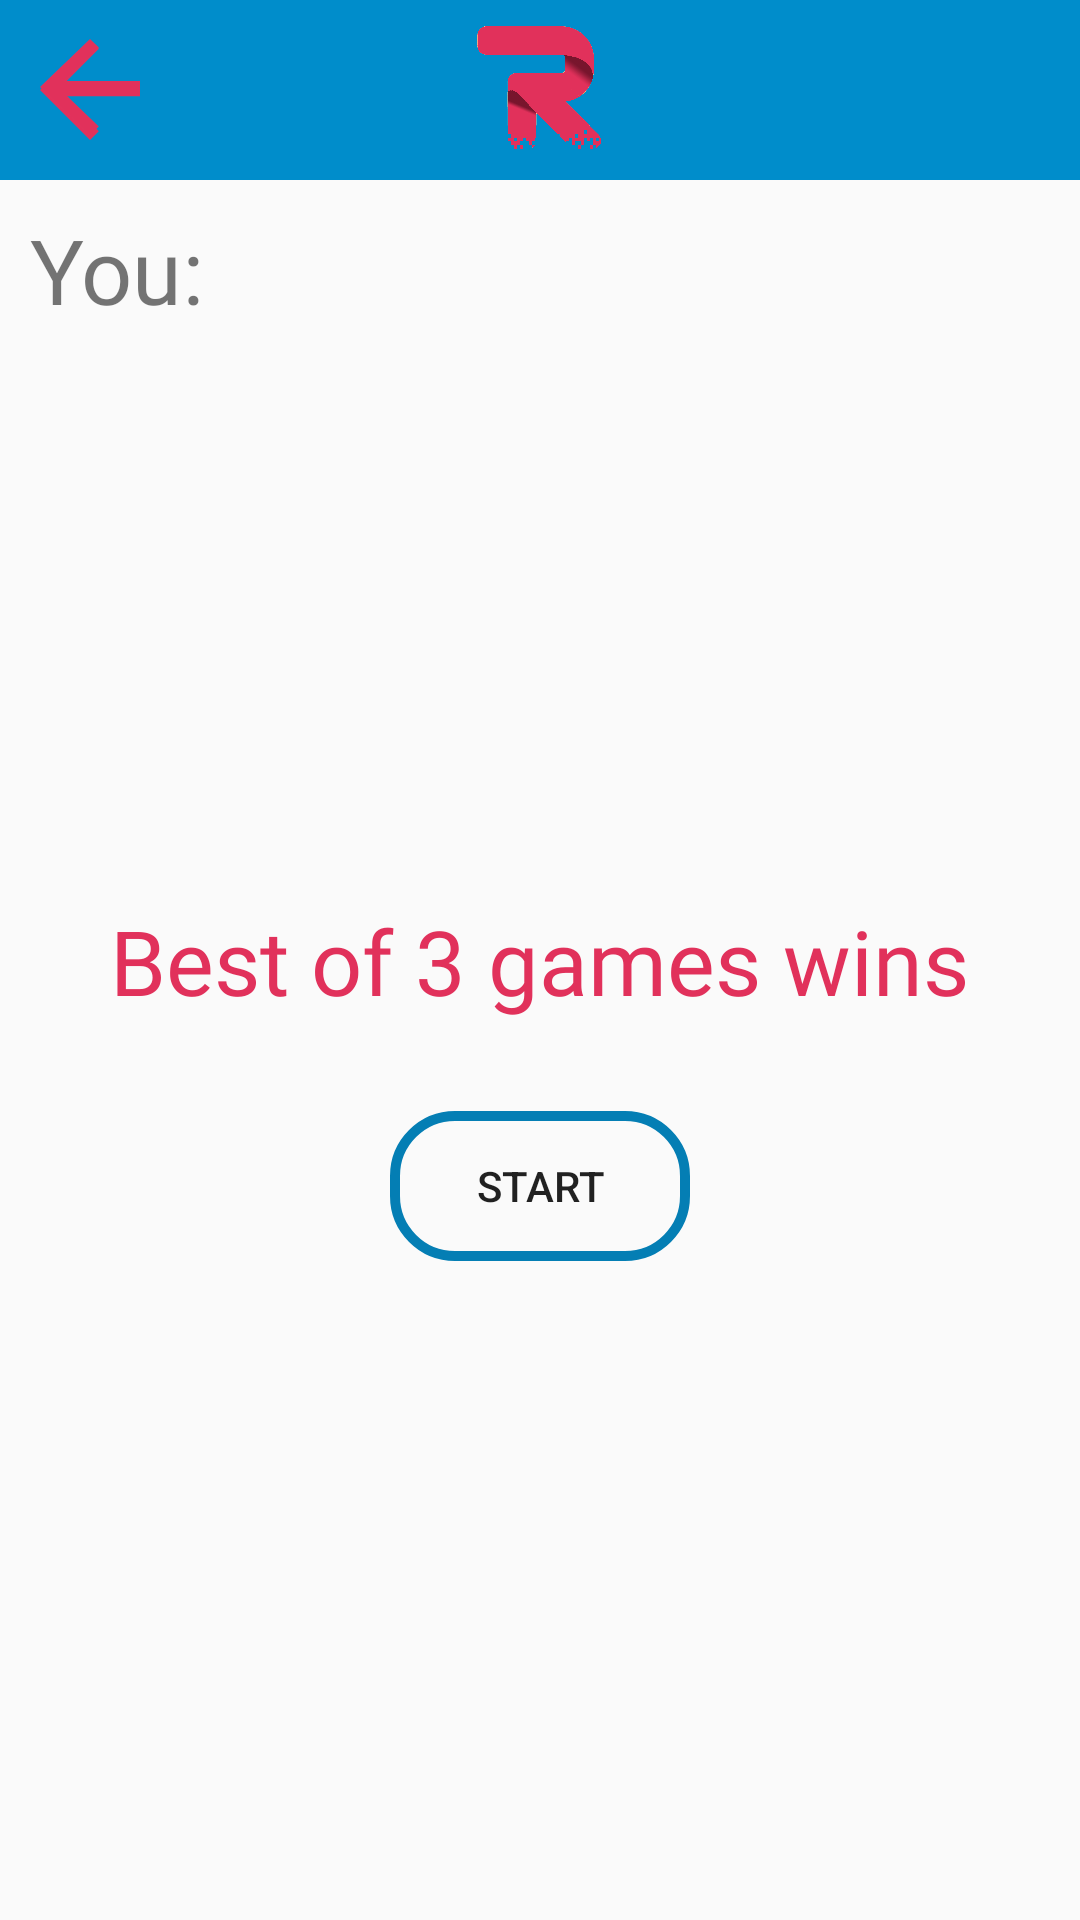

Screen size 1080*1920. Icon name, then its center in pixels as point (x, y):
backbutton: point (90, 89)
